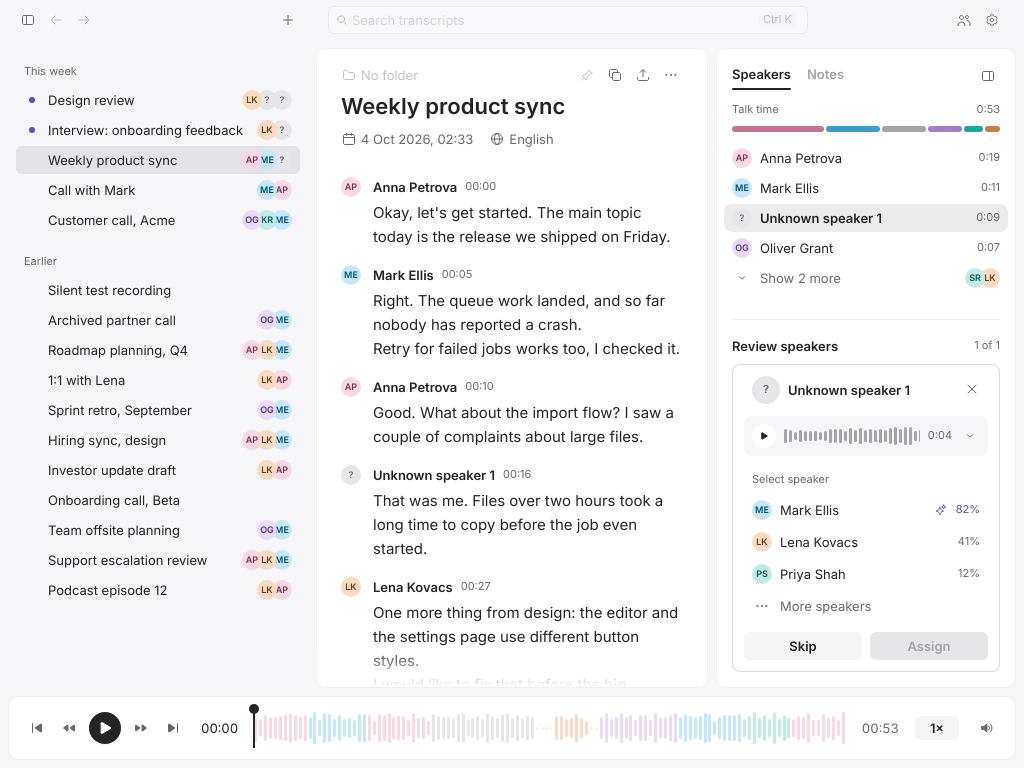
it: the Notes tab › a note that fails to load says so and Retry asks again
Expected: the heading "Weekly product sync" is shown, [341, 93, 565, 121]
Click the button "Design review LK ? ?" at [91, 100], box [16, 86, 300, 114]
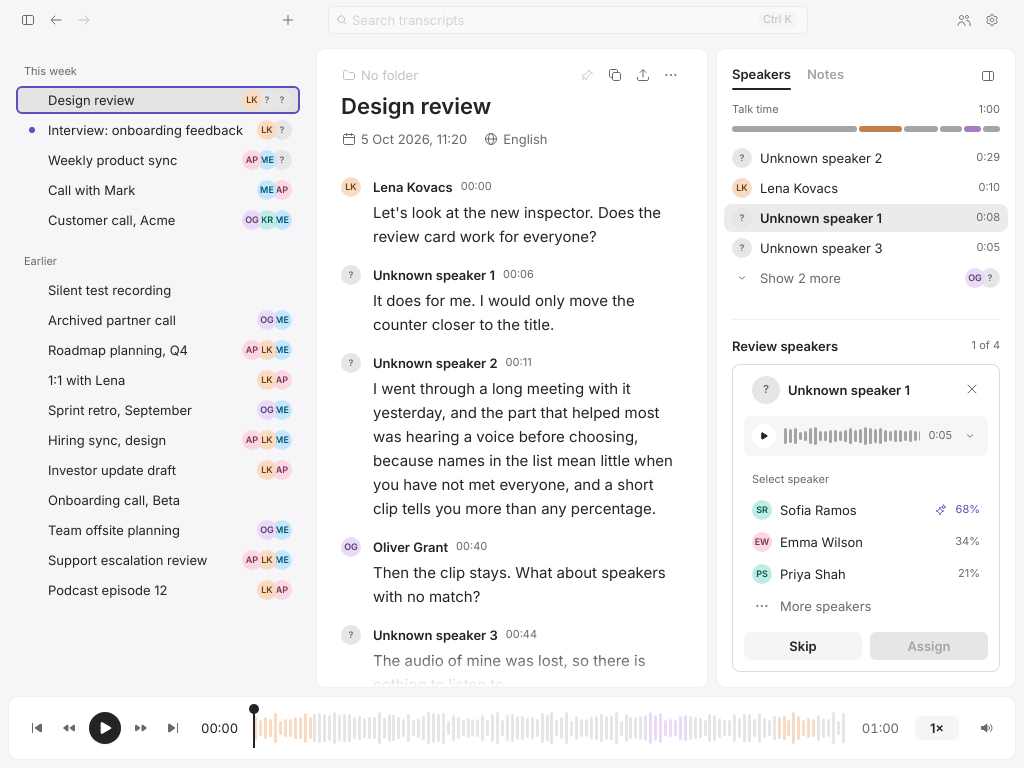
Now the heading reads "Design review", box [341, 93, 491, 121]
Click the tab "Notes" at [826, 77], box [807, 64, 844, 90]
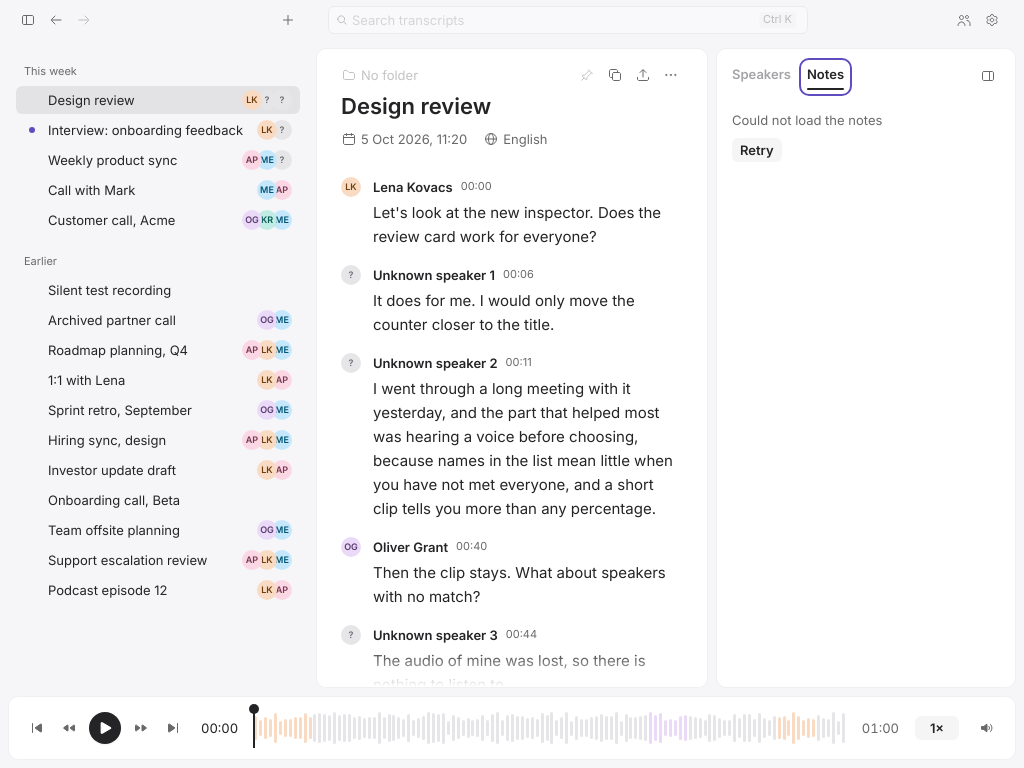
Now the text "Could not load the notes" is shown, box [732, 110, 882, 130]
Click the button "Retry" at [757, 150], box [732, 138, 782, 162]
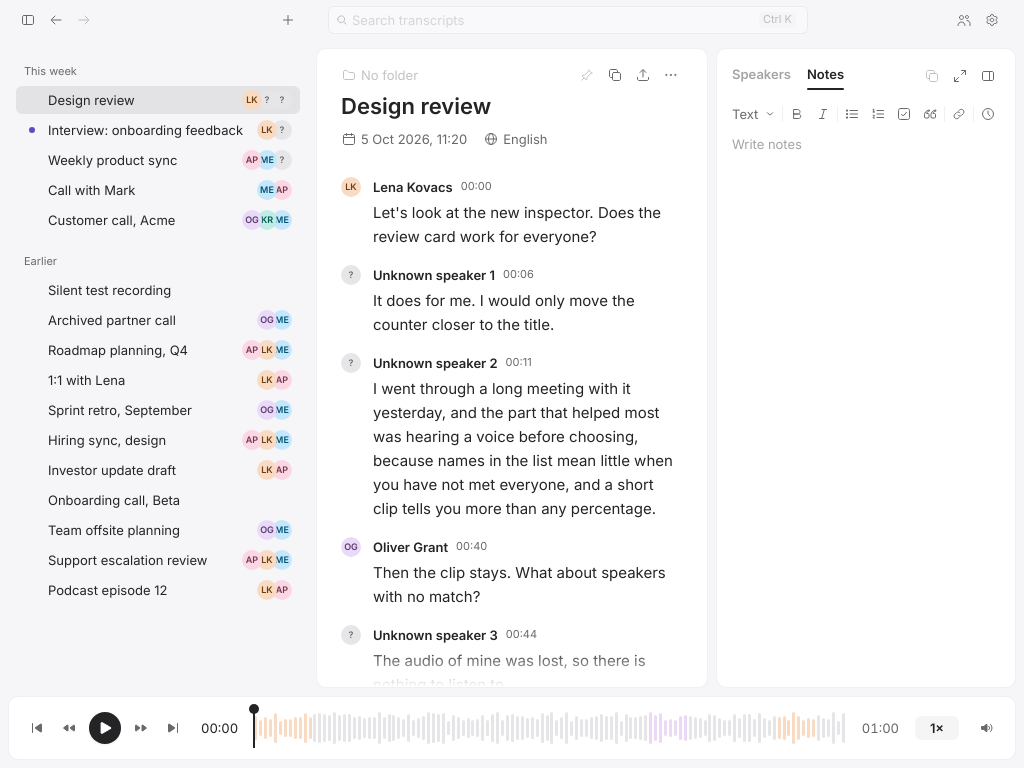
Now the field named "Notes" is shown, box [732, 134, 1000, 672]
